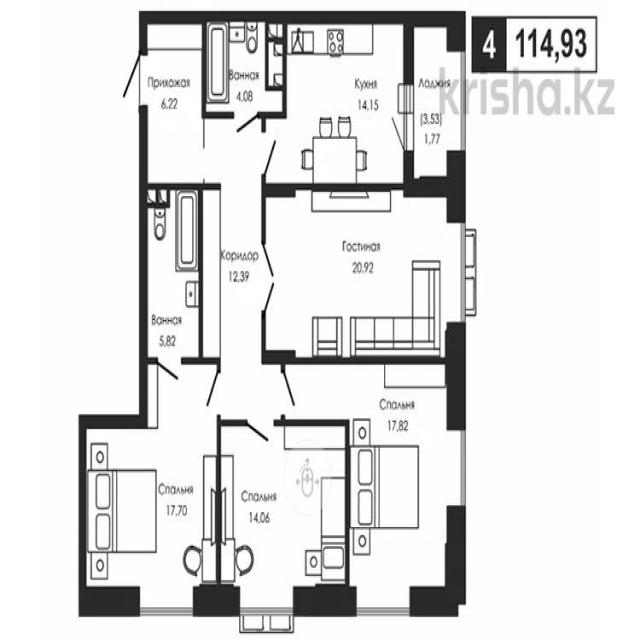balcony: (413, 25, 459, 181)
bathroom: (143, 187, 201, 360), (206, 20, 283, 111)
hallway: (208, 129, 262, 360), (145, 17, 203, 182)
kitchen: (286, 20, 406, 185)
living_room: (268, 192, 462, 353), (352, 368, 459, 598), (85, 424, 217, 605), (222, 425, 349, 598)
